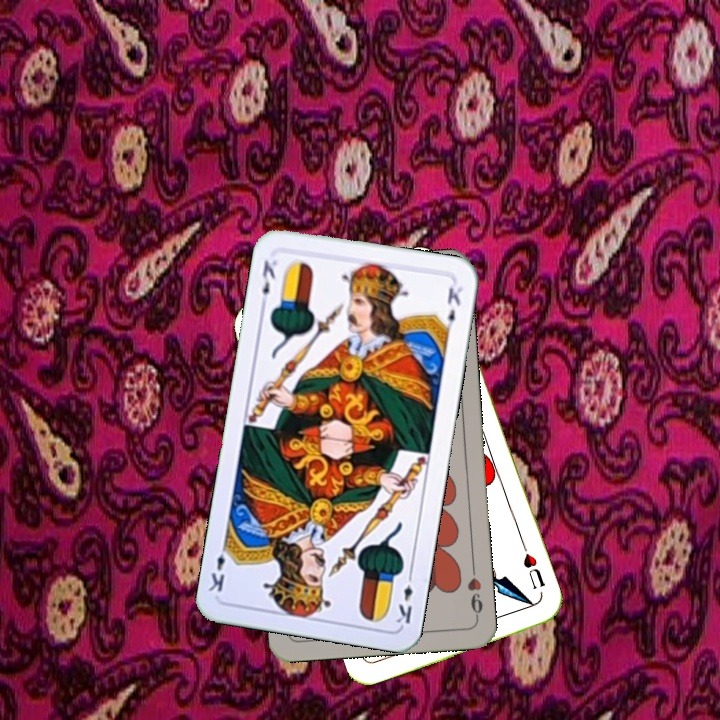EK: (392, 568, 416, 626), (257, 256, 280, 310)
H9: (463, 563, 486, 622)
HU: (519, 549, 548, 592)
